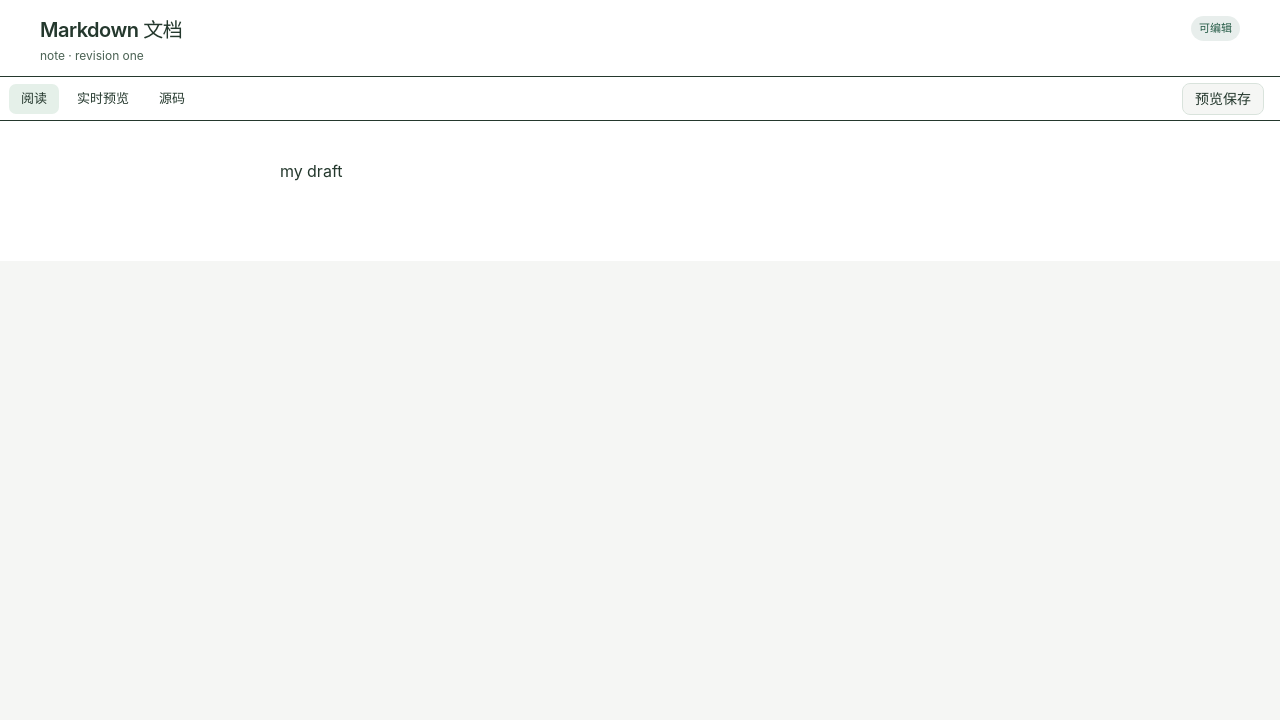
refuses to overwrite another tab's pending recovery identity
The image size is (1280, 720).
Click the button "预览保存" at (1223, 98), box x1=1182 y1=82 x2=1264 y2=114
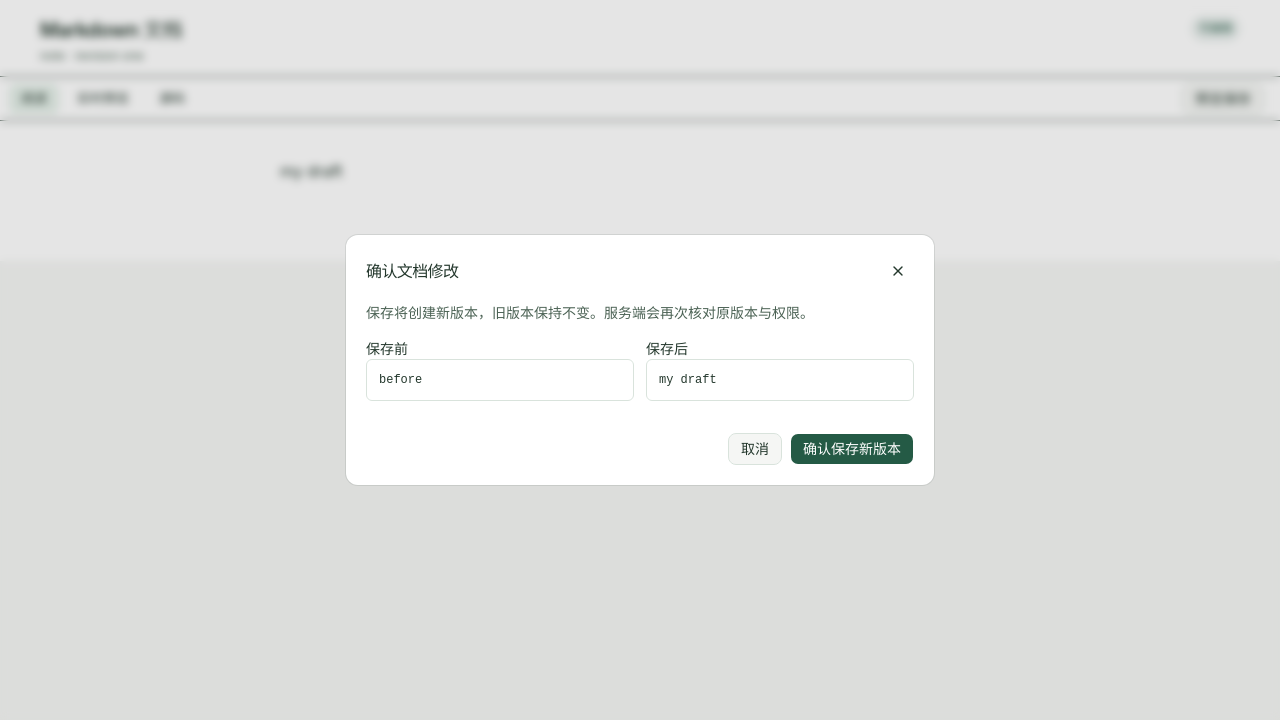
Click the button "确认保存新版本" at (852, 449), box x1=790 y1=433 x2=914 y2=465
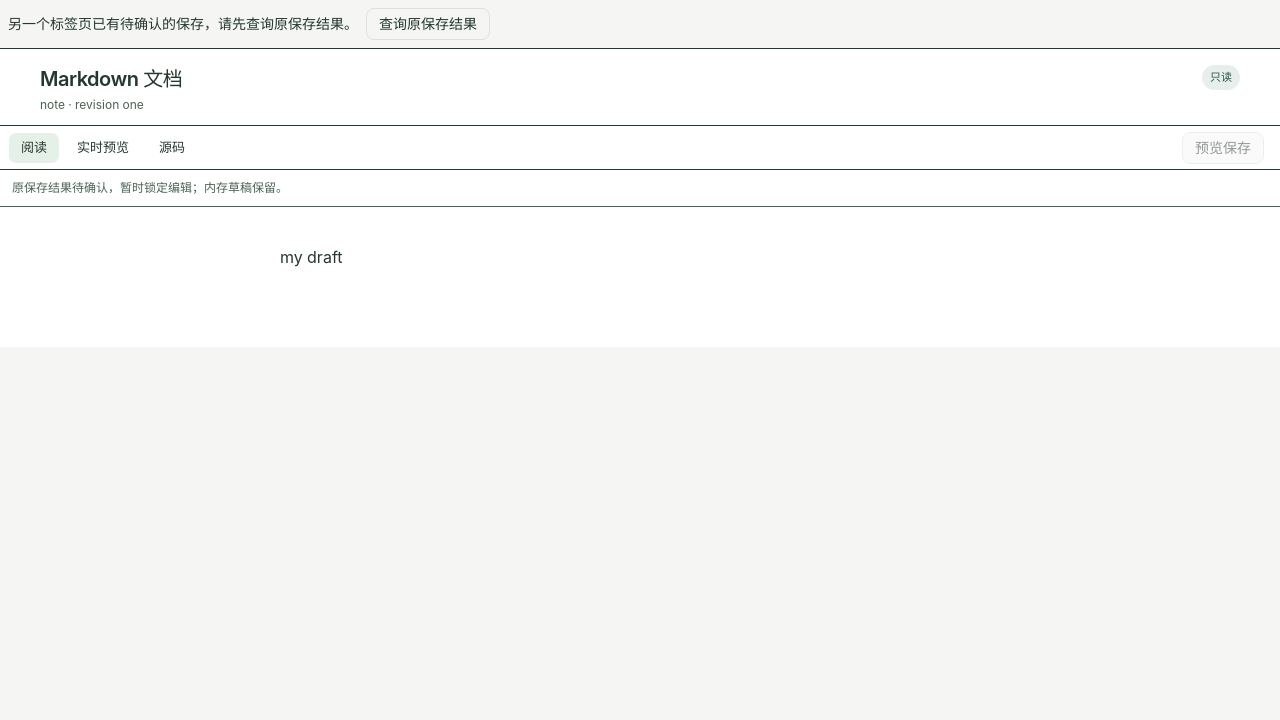
Check: the text "另一个标签页已有待确认的保存，请先查询原保存结果。" is shown, box x1=8 y1=14 x2=358 y2=34
